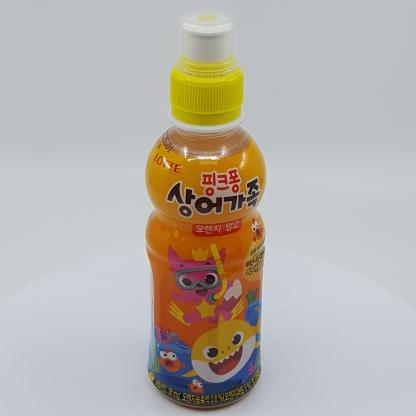----------235ML: (145, 9, 267, 409)
